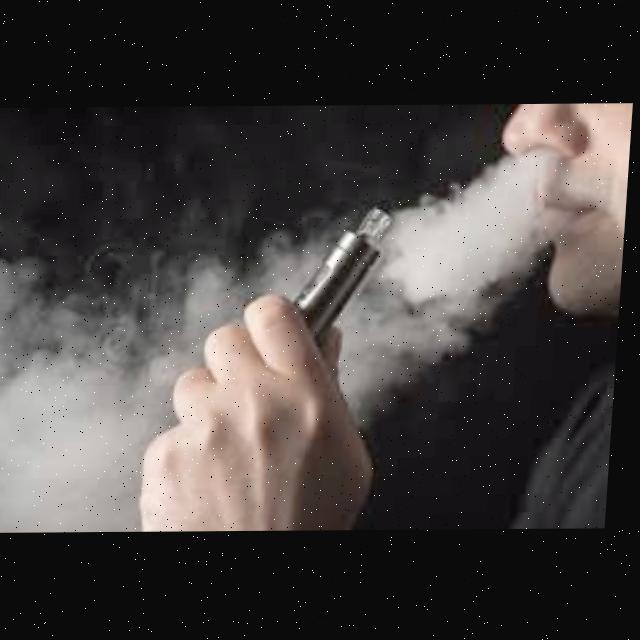vape: (295, 205, 396, 339)
